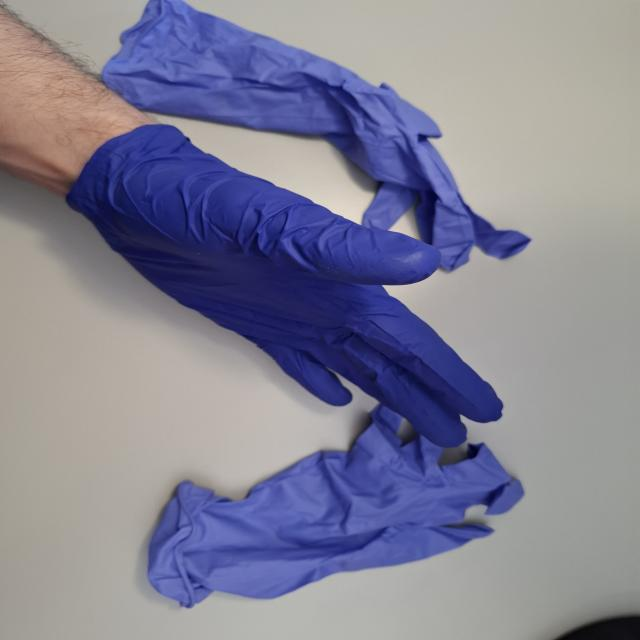glove_on: (60, 118, 510, 450)
